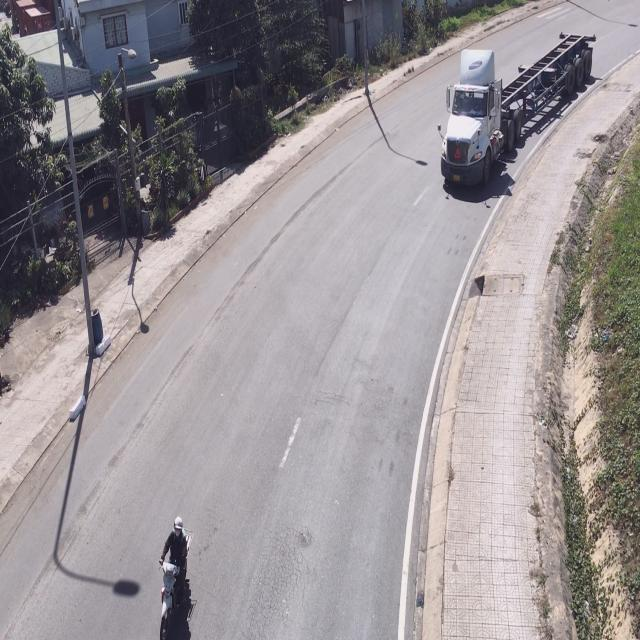motorbike: (160, 514, 194, 639)
truck: (440, 30, 594, 189)
